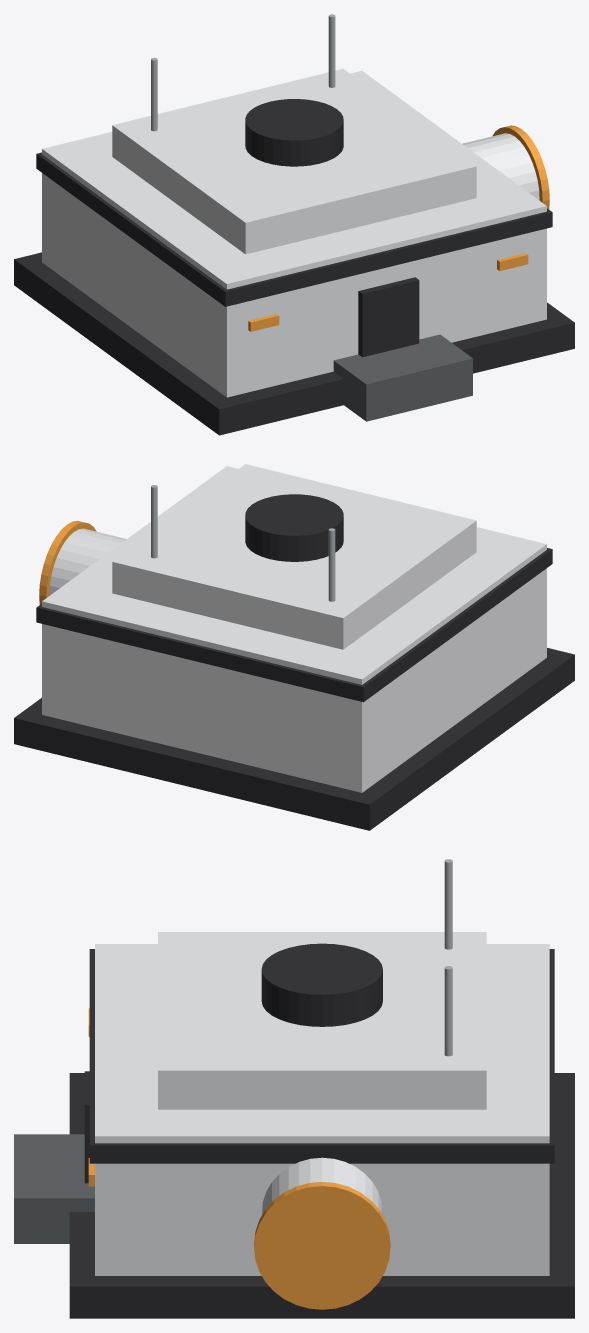
The model's file is SM_CMD1_CommandBuilding.glb.
The picture shows the model from 3 angles, top to bottom: view 1: azimuth 30°, elevation 25°; view 2: azimuth 150°, elevation 25°; view 3: azimuth 270°, elevation 25°; orthographic projection. The views are drawn at different scales.
Visible parts, largest first — view 1: SM_CMD1_CommandBuilding; view 2: SM_CMD1_CommandBuilding; view 3: SM_CMD1_CommandBuilding.
Boxes of the visible parts, <box> form: SM_CMD1_CommandBuilding: <box>14,14,574,435</box>; SM_CMD1_CommandBuilding: <box>14,464,574,830</box>; SM_CMD1_CommandBuilding: <box>14,859,574,1318</box>.
Bounding box in the file's own units: 11.4 × 6.5 × 11.1.
